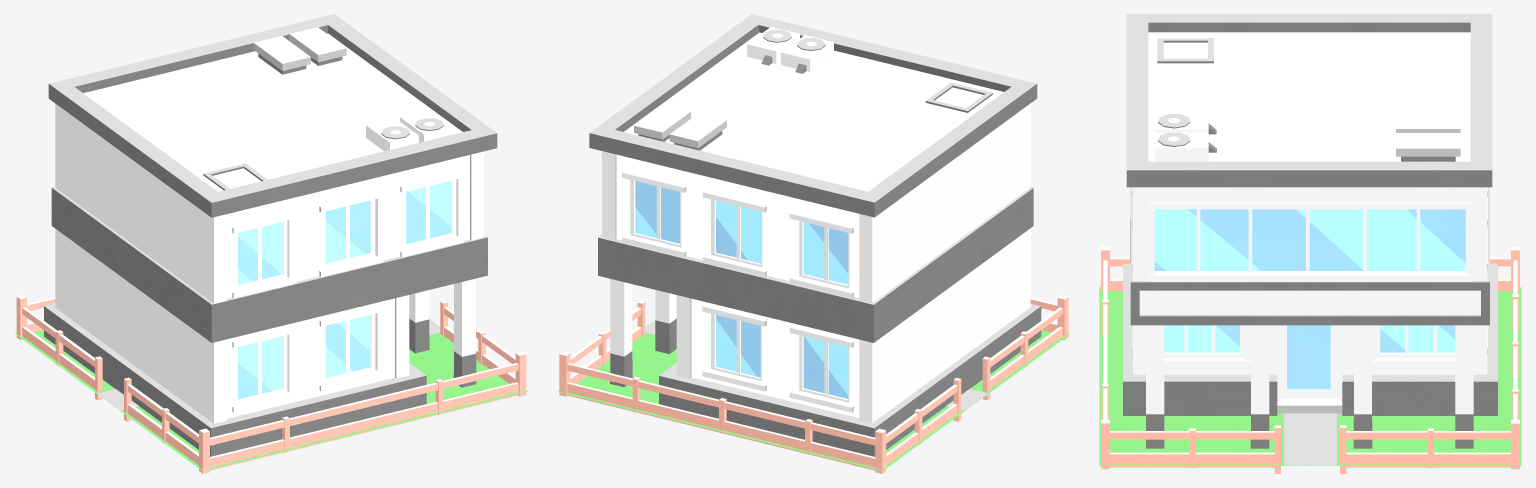
3 renders of one model, left to right at view 1: azimuth 30°, elevation 25°; view 2: azimuth 150°, elevation 25°; view 3: azimuth 270°, elevation 25°, orthographic. The views are drawn at different scales.
Visible parts, largest first — view 1: bank.005 (2), tile_for_home_1x1.002 (8); view 2: bank.005 (2), tile_for_home_1x1.002 (8); view 3: bank.005 (2), tile_for_home_1x1.002 (8).
Boxes of the visible parts, x1,y1,x2,y2 form: bank.005 (2): (44, 14, 497, 456); tile_for_home_1x1.002 (8): (15, 294, 527, 473); bank.005 (2): (589, 14, 1041, 456); tile_for_home_1x1.002 (8): (557, 295, 1069, 473); bank.005 (2): (1123, 14, 1497, 448); tile_for_home_1x1.002 (8): (1099, 246, 1521, 473).
Size of the model in its own units: 8 by 6.27 by 8.
Materials: 1 (1 with a texture image).
